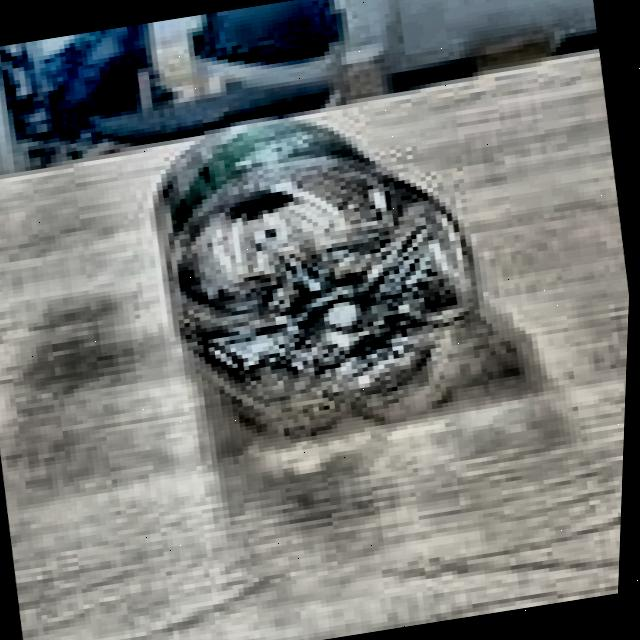plastic: (126, 68, 520, 471)
